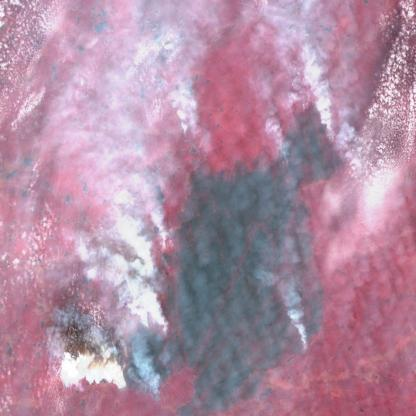fire: (269, 99, 365, 174), (118, 314, 170, 403), (141, 236, 179, 284), (178, 106, 203, 144), (295, 338, 311, 359)
